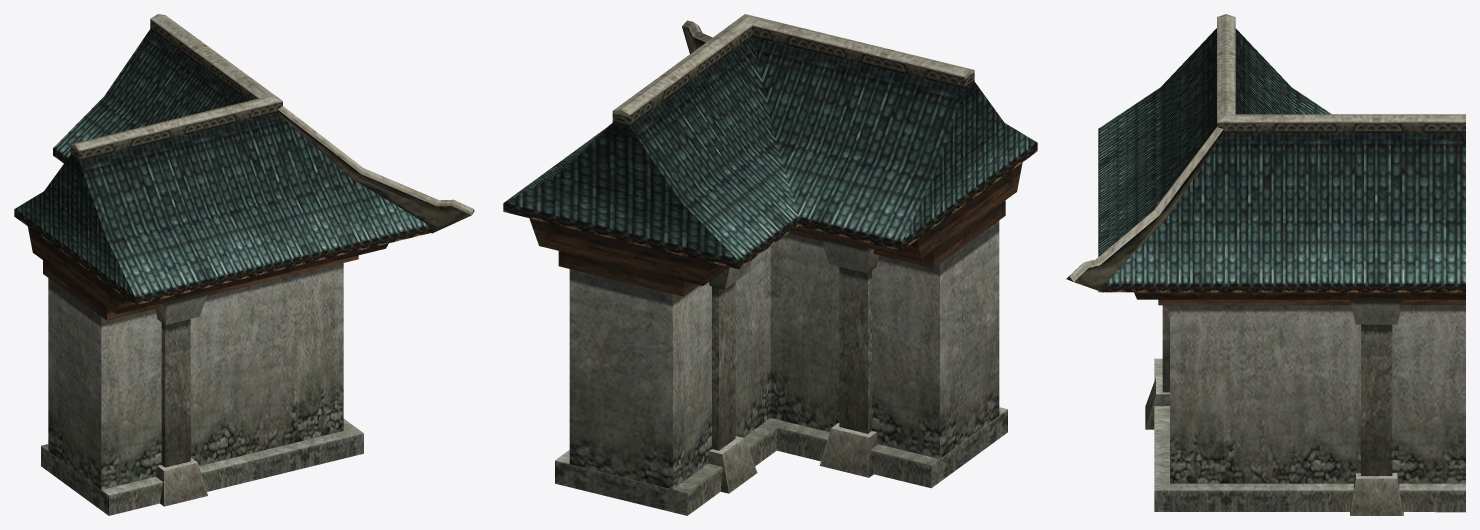
The model's file is gls_a_wall-corner.glb.
3 views of the same model, side by side, from view 1: azimuth 30°, elevation 25°; view 2: azimuth 150°, elevation 25°; view 3: azimuth 270°, elevation 25° (orthographic). The views are drawn at different scales.
Visible parts, largest first — view 1: gls_A_wall-corner; view 2: gls_A_wall-corner; view 3: gls_A_wall-corner.
Boxes of the visible parts, <box> form: gls_A_wall-corner: <box>14,14,474,515</box>; gls_A_wall-corner: <box>503,14,1037,515</box>; gls_A_wall-corner: <box>1066,14,1465,515</box>.
Size of the model in its own units: 6.68 by 6.75 by 6.67.
Materials: 2 (2 with a texture image).
